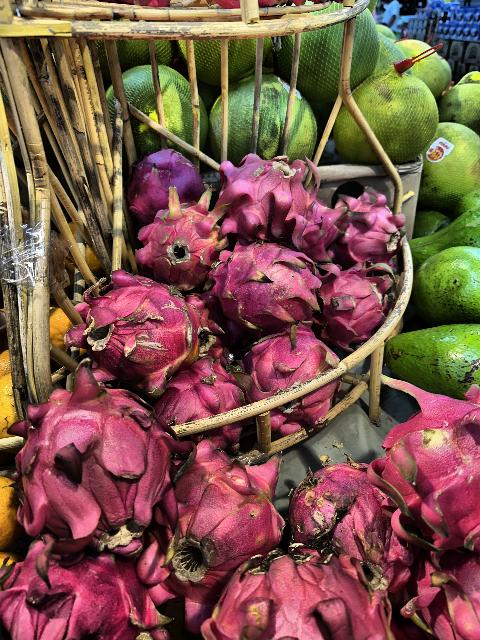buah-naga-matang: (9, 374, 183, 546), (156, 430, 288, 606), (207, 528, 401, 640), (366, 365, 480, 555), (280, 461, 424, 589), (2, 534, 170, 640), (88, 254, 212, 386), (246, 320, 342, 428), (215, 238, 315, 322), (164, 359, 253, 448), (221, 151, 308, 241), (139, 192, 223, 280), (335, 184, 409, 268), (325, 264, 389, 344)
